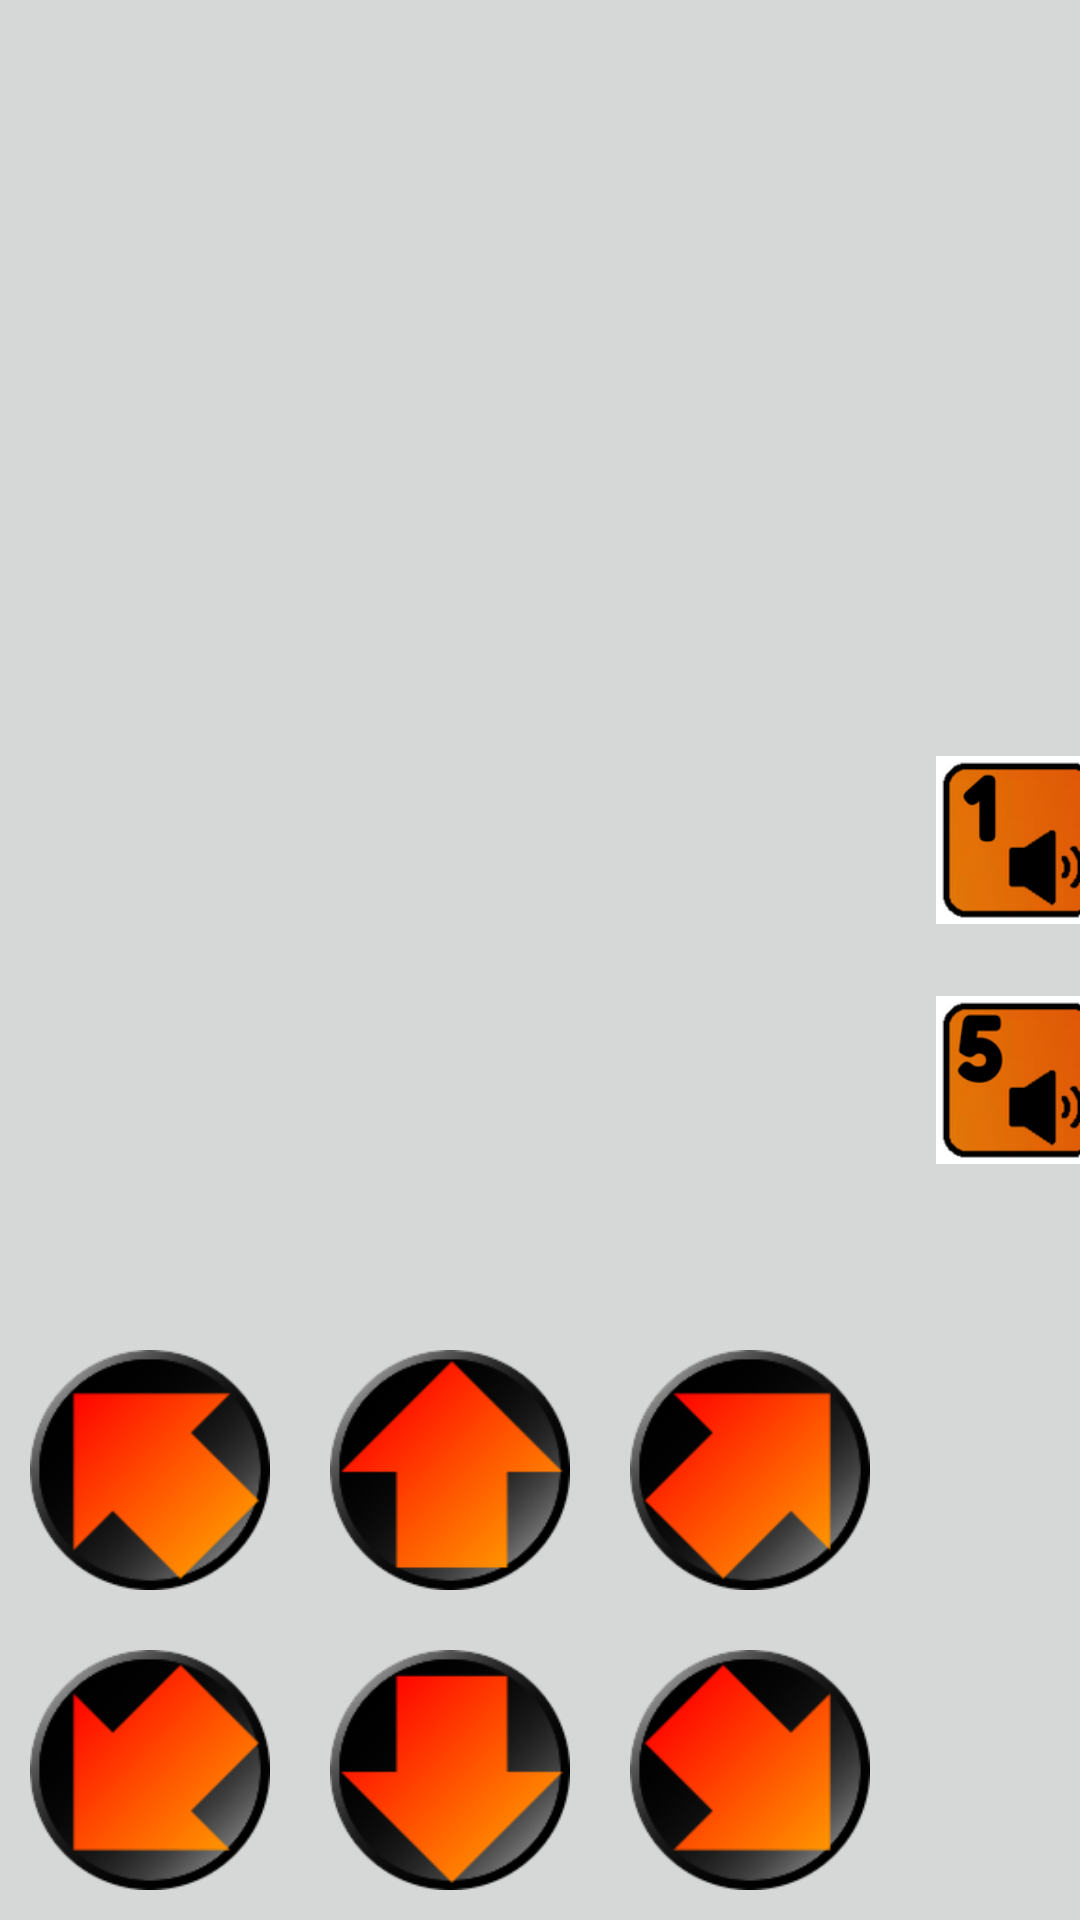

Icon bounding boxes for this 1080×1920 phone screenshot, format (x1, y1, x2, y2):
przod: (330, 1350, 570, 1590)
przod lewo: (30, 1350, 270, 1590)
przod prawo: (630, 1350, 870, 1590)
tyl: (330, 1650, 570, 1890)
tyl lewo: (30, 1650, 270, 1890)
tyl prawo: (630, 1650, 870, 1890)
